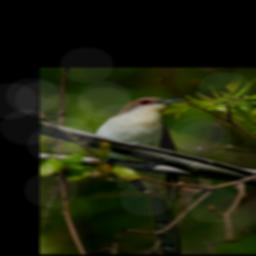Cuckoo: (91, 96, 188, 254)
